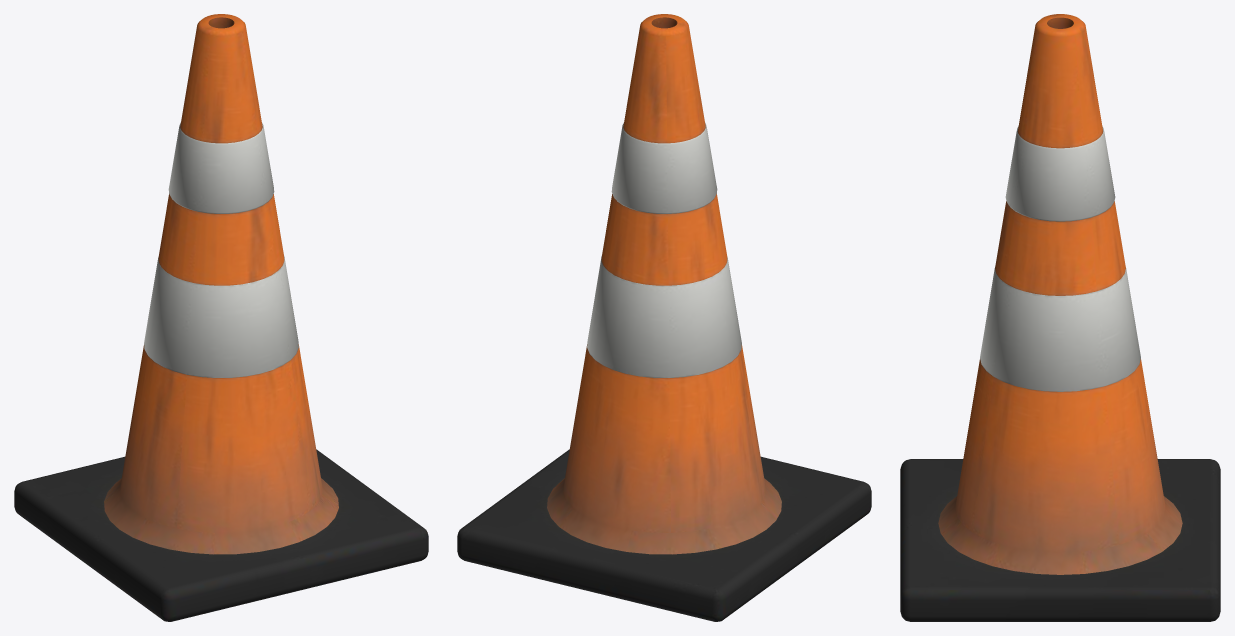
File: StreetTrafficCone.fbx
3 renders of one model, left to right at view 1: azimuth 30°, elevation 25°; view 2: azimuth 150°, elevation 25°; view 3: azimuth 270°, elevation 25°, orthographic. The views are drawn at different scales.
Parts seen in each view (by area): view 1: StreetTrafficCone_Body; view 2: StreetTrafficCone_Body; view 3: StreetTrafficCone_Body.
Boxes of the visible parts, x1,y1,x2,y2 form: StreetTrafficCone_Body: [14, 14, 428, 621]; StreetTrafficCone_Body: [457, 14, 871, 621]; StreetTrafficCone_Body: [900, 14, 1220, 621].
Bounding box in the file's own units: 0.38 × 0.7 × 0.38.
